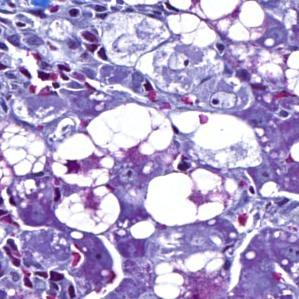ballooning: (169, 102, 266, 174), (144, 165, 243, 227), (84, 98, 178, 163), (45, 184, 127, 239), (48, 129, 115, 190)
